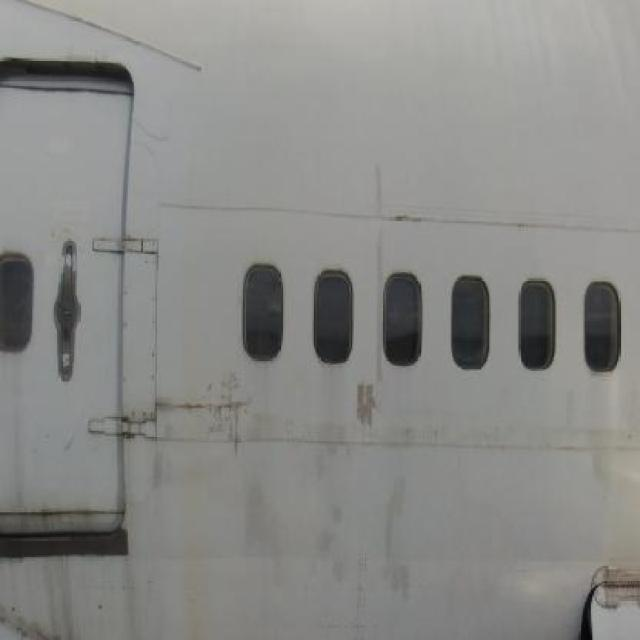Rust: (178, 484, 212, 640)
Scartch: (201, 366, 256, 471), (352, 376, 396, 467)
